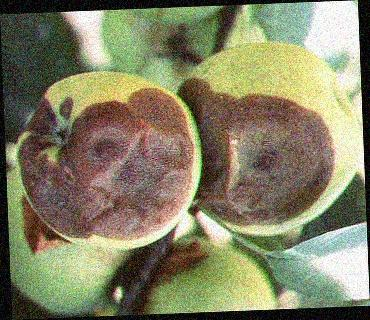rotten apple: (183, 34, 364, 243), (8, 68, 194, 255)
